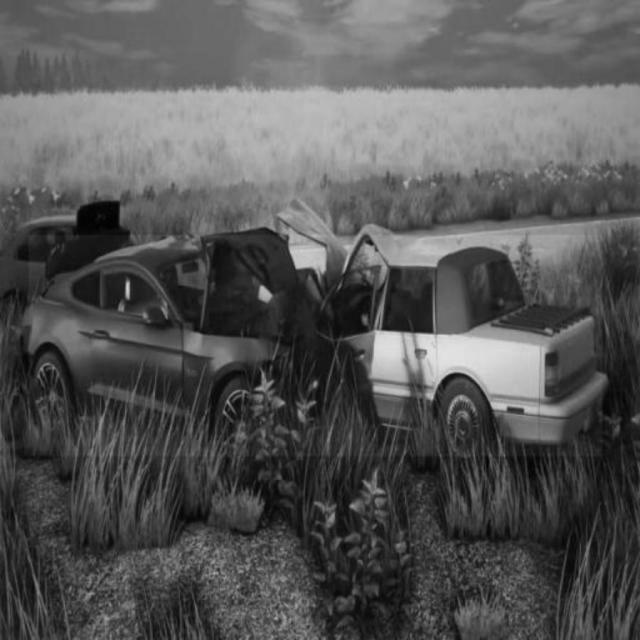accident: (29, 235, 602, 456)
